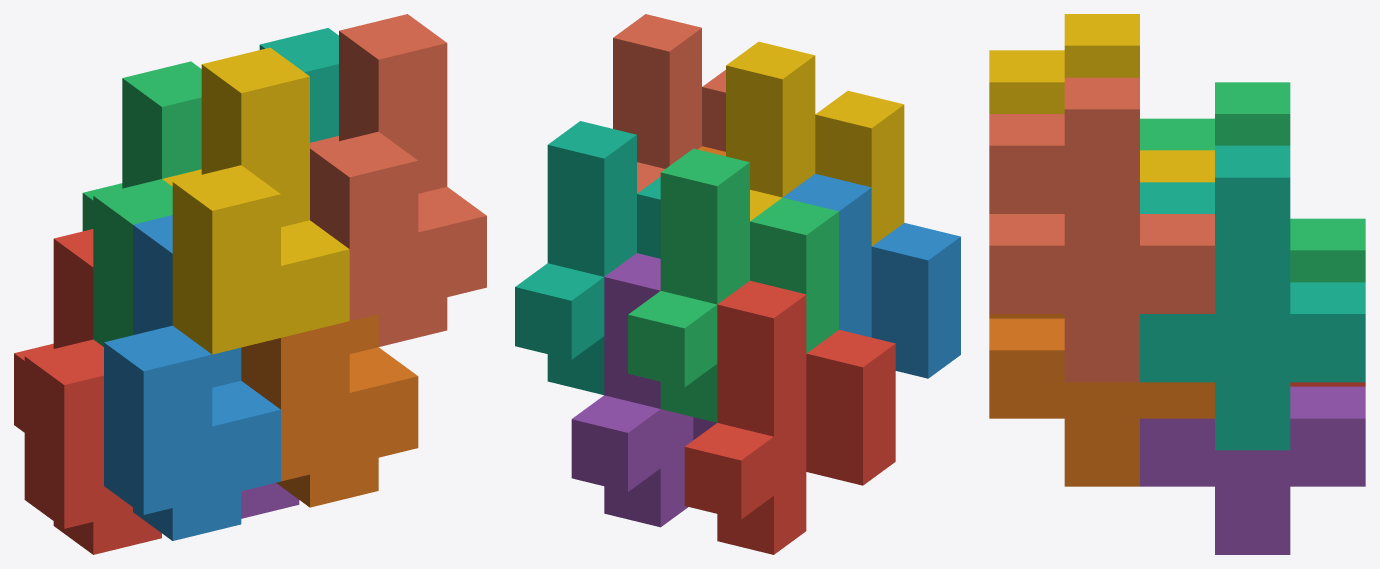
The model's file is tiling.obj.
3 renders of one model, left to right at view 1: azimuth 30°, elevation 25°; view 2: azimuth 150°, elevation 25°; view 3: azimuth 270°, elevation 25°, orthographic. The views are drawn at different scales.
Visible parts, largest first — view 1: copy_1_domain_4, copy_1_domain_8, copy_1_domain_2, copy_1_domain_6, copy_1_domain_1, copy_1_domain_3, copy_1_domain_7, copy_1_domain_5; view 2: copy_1_domain_1, copy_1_domain_3, copy_1_domain_7, copy_1_domain_4, copy_1_domain_2, copy_1_domain_5, copy_1_domain_8; view 3: copy_1_domain_8, copy_1_domain_7, copy_1_domain_5, copy_1_domain_6, copy_1_domain_3, copy_1_domain_4.
Part boxes in pixels (<box>): copy_1_domain_4: <box>162,47,349,354</box>; copy_1_domain_8: <box>310,14,486,346</box>; copy_1_domain_2: <box>104,215,280,540</box>; copy_1_domain_6: <box>241,314,418,507</box>; copy_1_domain_1: <box>14,229,161,554</box>; copy_1_domain_3: <box>82,61,201,346</box>; copy_1_domain_7: <box>259,28,338,142</box>; copy_1_domain_5: <box>241,483,299,518</box>; copy_1_domain_1: <box>684,280,895,554</box>; copy_1_domain_3: <box>628,148,838,422</box>; copy_1_domain_7: <box>515,121,660,394</box>; copy_1_domain_4: <box>726,41,904,246</box>; copy_1_domain_2: <box>783,173,960,378</box>; copy_1_domain_5: <box>571,253,716,527</box>; copy_1_domain_8: <box>613,14,725,193</box>; copy_1_domain_8: <box>989,77,1214,382</box>; copy_1_domain_7: <box>1140,145,1365,450</box>; copy_1_domain_5: <box>1140,386,1365,554</box>; copy_1_domain_6: <box>989,314,1214,486</box>; copy_1_domain_3: <box>1140,82,1365,282</box>; copy_1_domain_4: <box>989,14,1214,182</box>.
Bounding box in the file's own units: 5 × 7 × 5.
